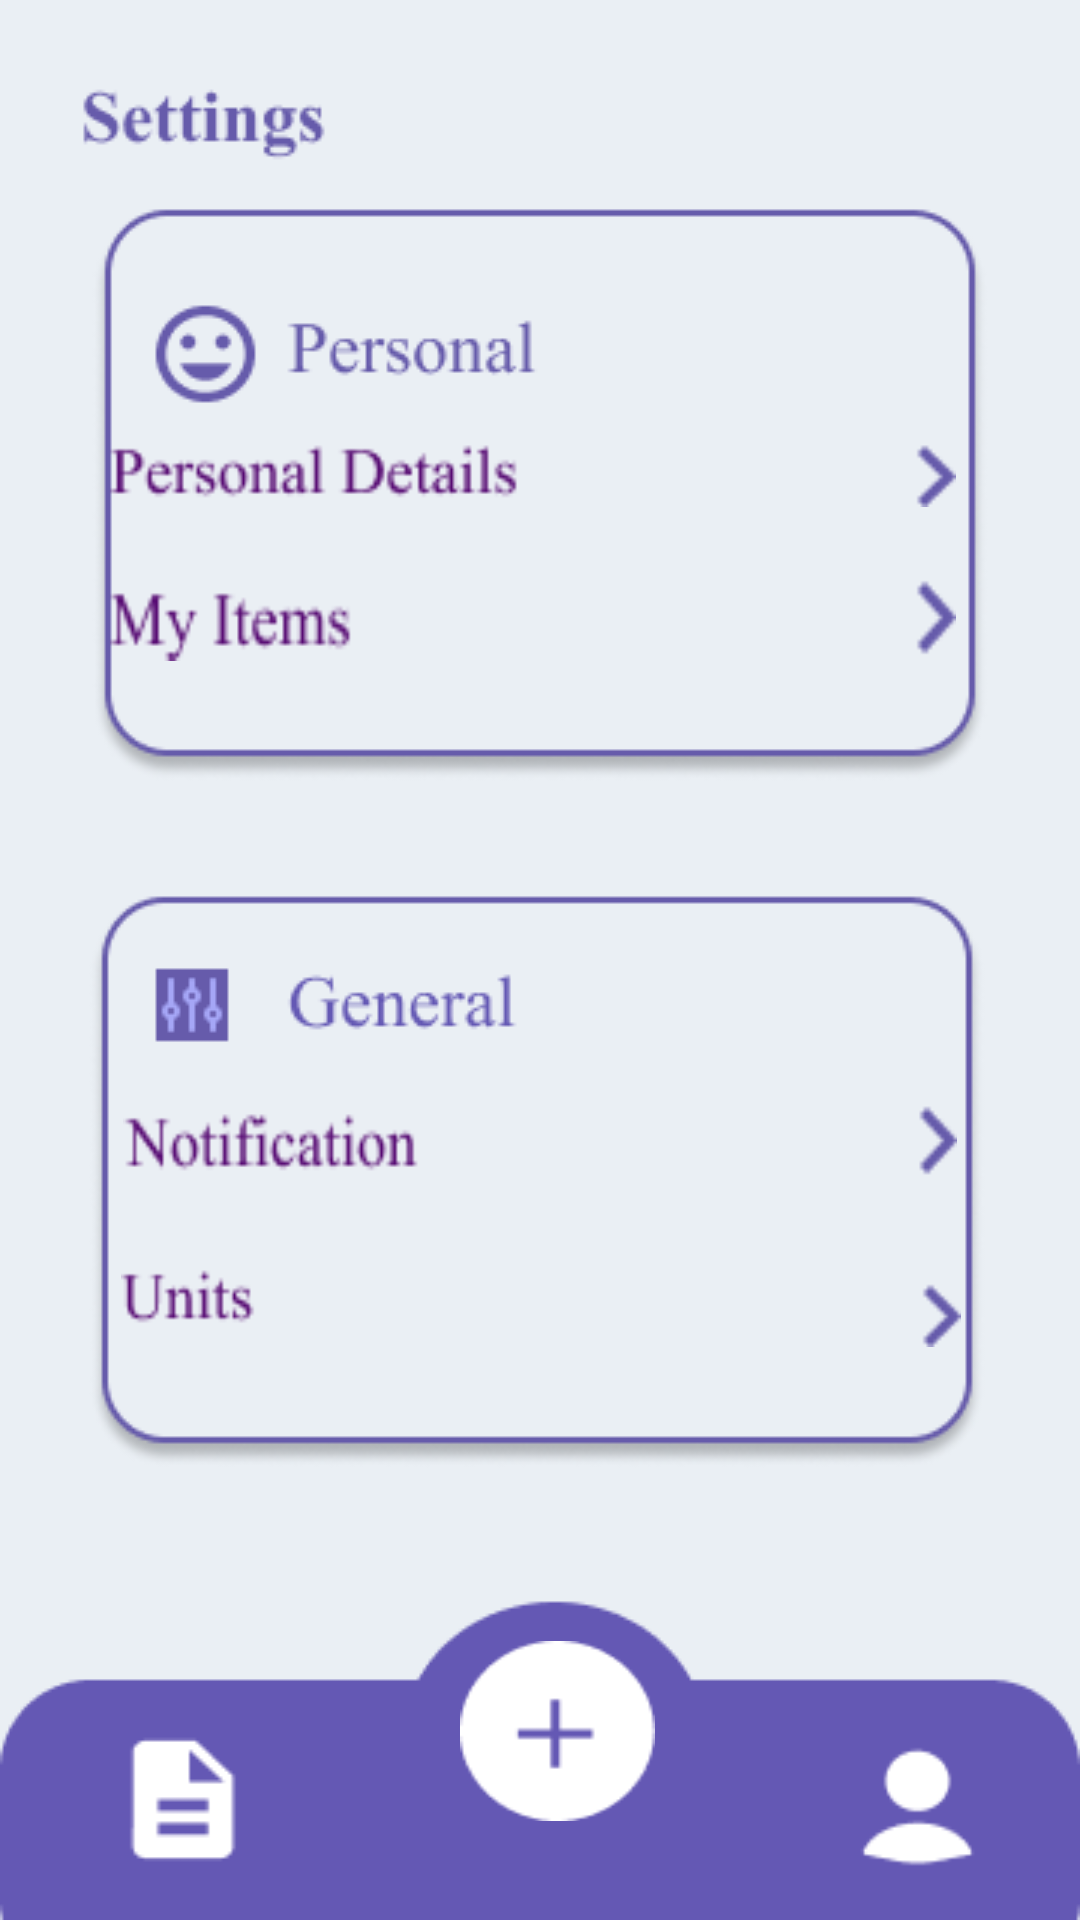

Icon click points for this 1080 × 1920 phone screenshot, format (x=x, y=y):
description: (x=182, y=1799)
plus: (x=557, y=1731)
user: (x=917, y=1807)
